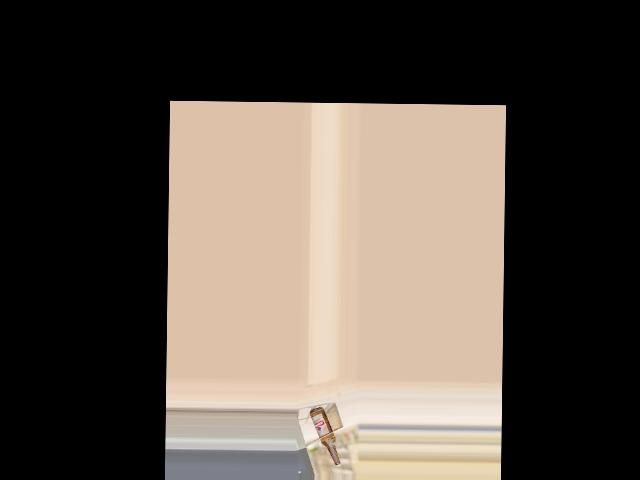beer: (308, 406, 342, 467)
